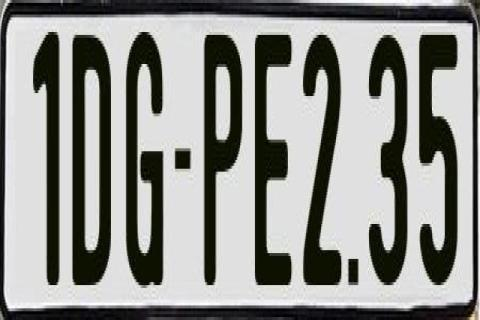0: (369, 27, 414, 280), (418, 32, 460, 296), (301, 35, 344, 288), (30, 32, 59, 291)
D: (70, 35, 110, 299)
E: (253, 32, 292, 282)
G: (126, 29, 167, 285)
P: (202, 35, 244, 288)
